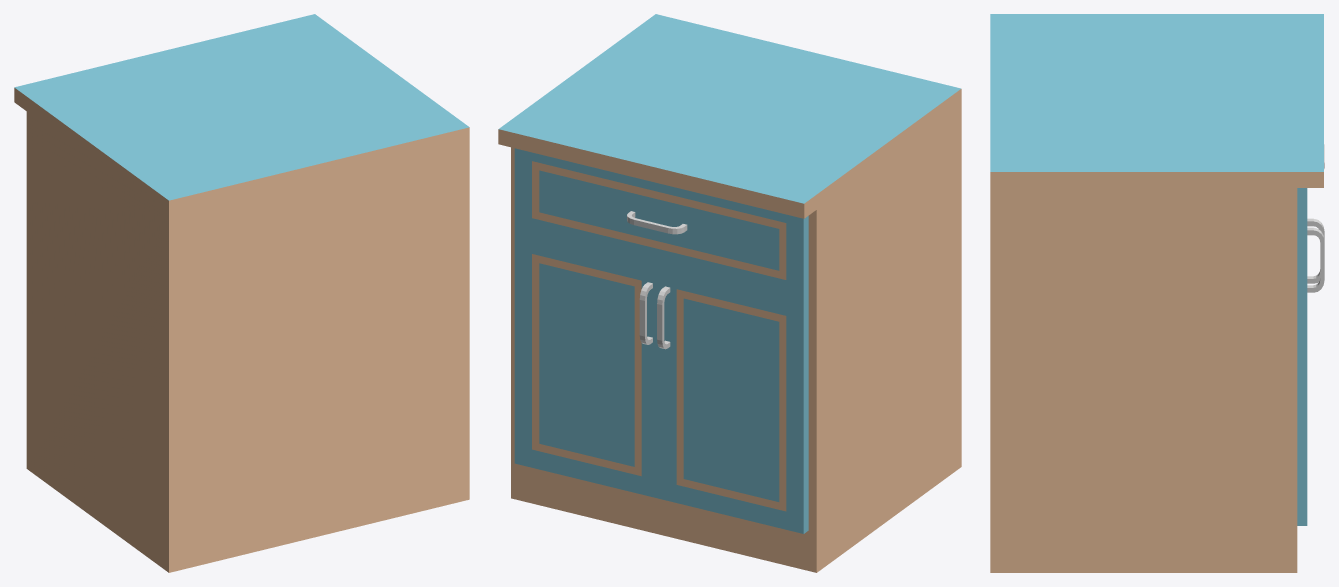
File: Cabinet Floor Unit 1.fbx
3 renders of one model, left to right at view 1: azimuth 30°, elevation 25°; view 2: azimuth 150°, elevation 25°; view 3: azimuth 270°, elevation 25°, orthographic. The views are drawn at different scales.
Visible parts, largest first — view 1: Cabinet Floor Unit 1, Counter Segment; view 2: Cabinet Floor Unit 1, Counter Segment, Cabinet Floor Unit Door.R, Cabinet Floor Unit Door.L, Cabinet Floor Unit Drawer; view 3: Cabinet Floor Unit 1, Counter Segment, Cabinet Floor Unit Door.L, Cabinet Floor Unit Drawer.
Part boxes in pixels (<box>): Cabinet Floor Unit 1: <box>26,111,469,572</box>; Counter Segment: <box>14,14,469,215</box>; Cabinet Floor Unit 1: <box>511,104,961,572</box>; Counter Segment: <box>498,14,961,218</box>; Cabinet Floor Unit Door.R: <box>657,267,808,533</box>; Cabinet Floor Unit Door.L: <box>514,231,659,498</box>; Cabinet Floor Unit Drawer: <box>514,148,808,301</box>; Cabinet Floor Unit 1: <box>990,188,1297,572</box>; Counter Segment: <box>990,14,1323,187</box>; Cabinet Floor Unit Door.L: <box>1297,227,1324,525</box>; Cabinet Floor Unit Drawer: <box>1297,144,1324,279</box>.
Bounding box in the file's own units: 0.8052 × 0.9525 × 0.7192.
